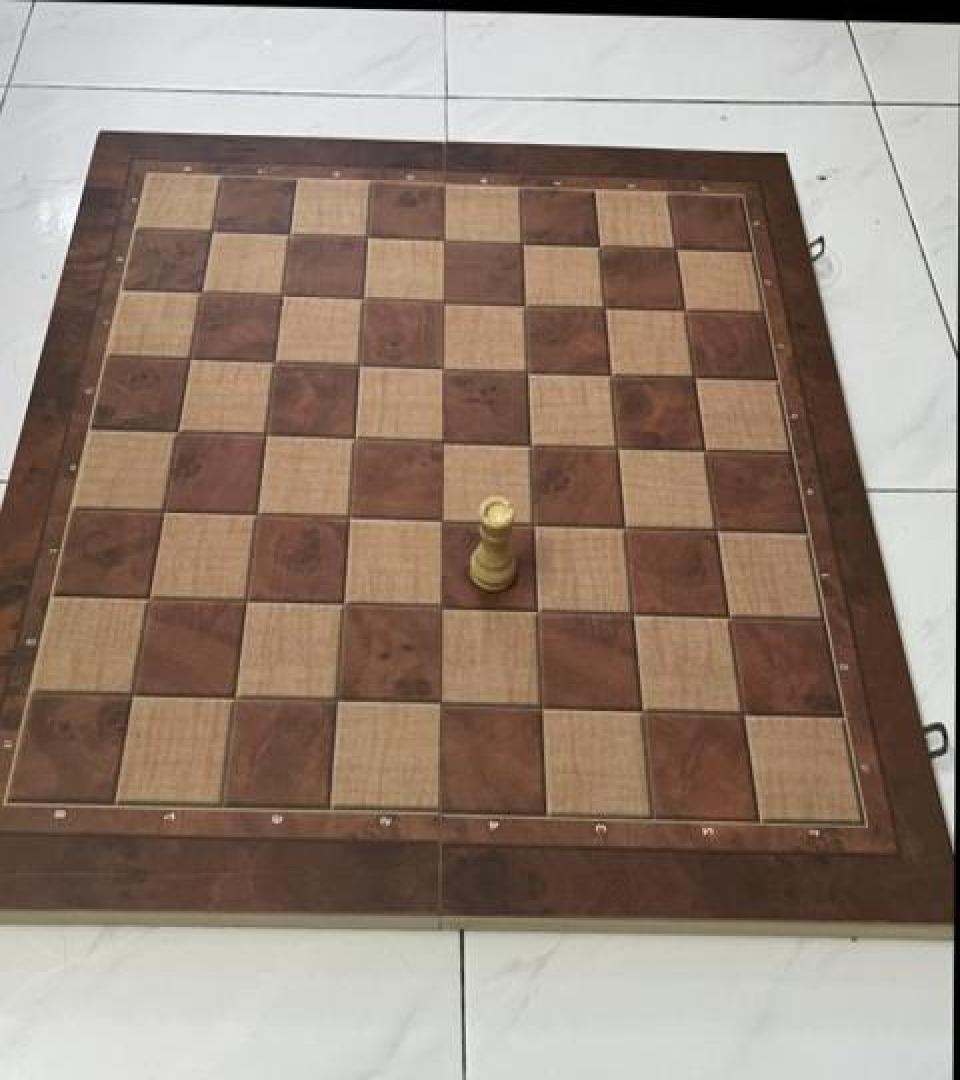xcorner: (349, 218, 385, 259), (581, 226, 617, 267), (345, 280, 381, 321), (426, 282, 462, 323), (667, 290, 703, 331), (256, 344, 292, 385), (509, 352, 545, 393), (593, 354, 629, 395), (248, 416, 284, 457), (512, 425, 548, 466), (238, 496, 274, 537), (331, 498, 367, 539), (606, 507, 642, 548), (325, 586, 361, 627), (422, 588, 458, 629), (710, 596, 746, 637), (114, 677, 150, 718), (420, 685, 456, 726), (522, 687, 558, 728), (193, 214, 229, 254), (271, 216, 307, 256), (427, 222, 463, 262), (504, 224, 540, 264), (658, 230, 694, 270), (183, 275, 219, 315), (264, 278, 300, 318), (506, 286, 542, 326), (587, 288, 623, 328), (172, 341, 208, 381), (341, 347, 377, 387), (425, 350, 461, 390), (676, 358, 712, 398), (159, 414, 195, 454), (336, 420, 372, 460), (424, 422, 460, 462), (599, 428, 635, 468), (686, 430, 722, 470), (146, 494, 182, 534), (423, 502, 459, 542), (515, 504, 551, 544), (698, 510, 734, 550), (131, 581, 167, 621), (228, 584, 264, 624), (518, 592, 554, 632), (614, 594, 650, 634), (217, 680, 253, 720), (319, 683, 355, 723), (623, 691, 659, 731), (723, 693, 759, 733)
